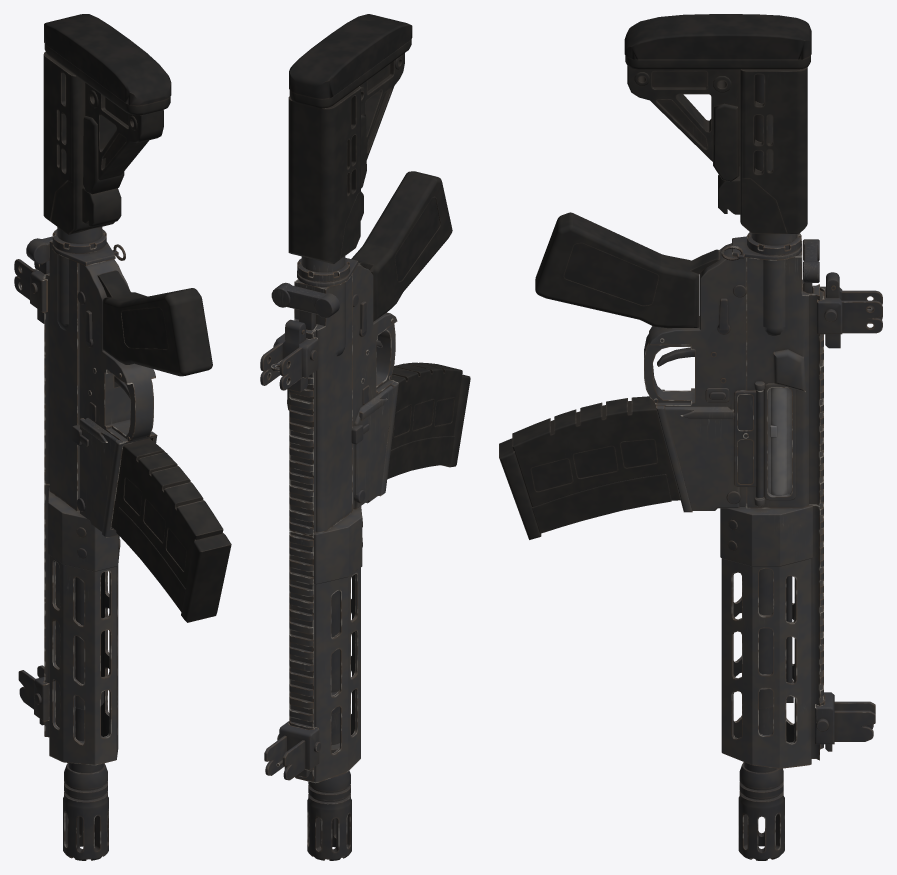
File: ar_rifle.fbx
3 views of the same model, side by side, from view 1: azimuth 30°, elevation 25°; view 2: azimuth 150°, elevation 25°; view 3: azimuth 270°, elevation 25° (orthographic). The views are drawn at different scales.
Visible parts, largest first — view 1: ar_rifle_receiver, ar_rifle_stock, ar_rifle_handguard, ar_rifle_magazine, ar_rifle_pistol_grip, ar_rifle_barrel, ar_rifle_rear_sight, ar_rifle_front_sight, ar_rifle_charging_handle; view 2: ar_rifle_receiver, ar_rifle_stock, ar_rifle_handguard, ar_rifle_pistol_grip, ar_rifle_magazine, ar_rifle_barrel, ar_rifle_rear_sight, ar_rifle_front_sight, ar_rifle_charging_handle; view 3: ar_rifle_receiver, ar_rifle_stock, ar_rifle_handguard, ar_rifle_magazine, ar_rifle_pistol_grip, ar_rifle_barrel, ar_rifle_rear_sight, ar_rifle_ejection_cover, ar_rifle_front_sight, ar_rifle_charging_handle.
Part boxes in pixels (box(x1,y1,x2,y2)): ar_rifle_receiver: box(44, 227, 157, 537); ar_rifle_stock: box(43, 14, 171, 234); ar_rifle_handguard: box(44, 484, 120, 765); ar_rifle_magazine: box(111, 438, 231, 622); ar_rifle_pistol_grip: box(97, 270, 212, 376); ar_rifle_barrel: box(63, 577, 108, 860); ar_rifle_rear_sight: box(14, 259, 49, 323); ar_rifle_front_sight: box(18, 665, 49, 725); ar_rifle_charging_handle: box(26, 236, 52, 263); ar_rifle_receiver: box(287, 256, 398, 536); ar_rifle_stock: box(288, 14, 412, 263); ar_rifle_handguard: box(289, 506, 362, 783); ar_rifle_pistol_grip: box(351, 171, 452, 321); ar_rifle_magazine: box(387, 362, 470, 479); ar_rifle_barrel: box(307, 590, 351, 860); ar_rifle_rear_sight: box(260, 319, 318, 392); ar_rifle_front_sight: box(264, 721, 321, 780); ar_rifle_charging_handle: box(271, 282, 339, 330); ar_rifle_receiver: box(644, 74, 823, 512); ar_rifle_stock: box(624, 14, 811, 233); ar_rifle_handguard: box(720, 502, 823, 768); ar_rifle_magazine: box(499, 396, 680, 539); ar_rifle_pistol_grip: box(535, 212, 720, 328); ar_rifle_barrel: box(738, 569, 793, 860); ar_rifle_rear_sight: box(817, 272, 882, 348); ar_rifle_ejection_cover: box(734, 390, 763, 498); ar_rifle_front_sight: box(815, 692, 875, 751); ar_rifle_charging_handle: box(803, 239, 819, 293).
Size of the model in its own units: 6.42 by 33.6 by 80.02.
Materials: 3 (3 with a texture image).
